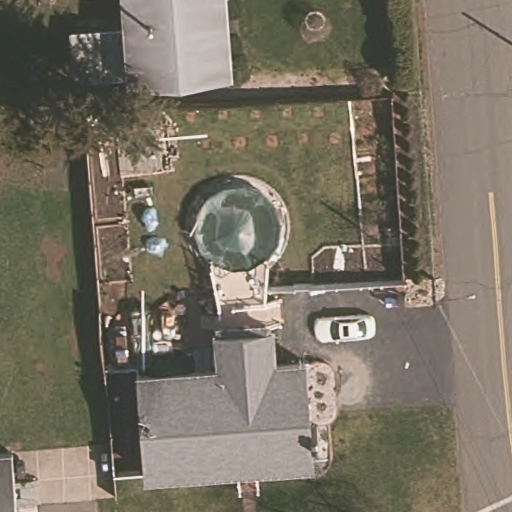DT: (426, 285, 480, 311)
